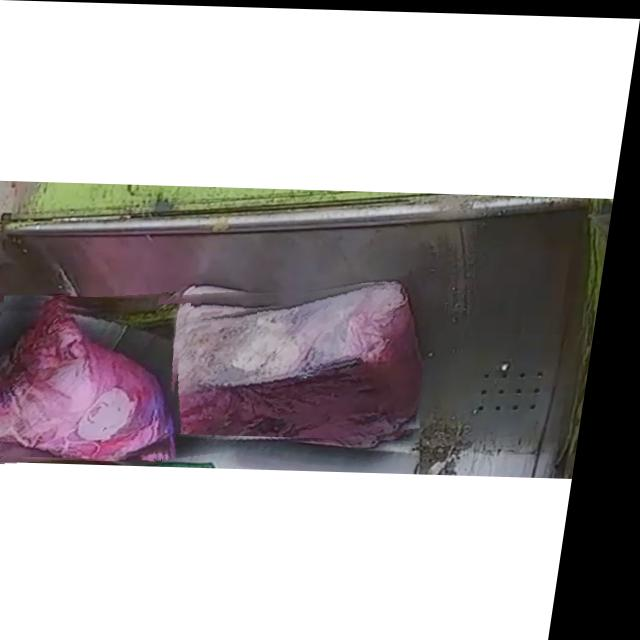other_trashbag: (160, 282, 433, 436), (2, 307, 180, 457)
